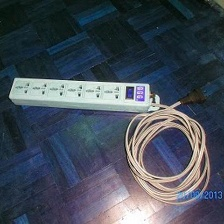three_eye_plug: (7, 75, 154, 116)
